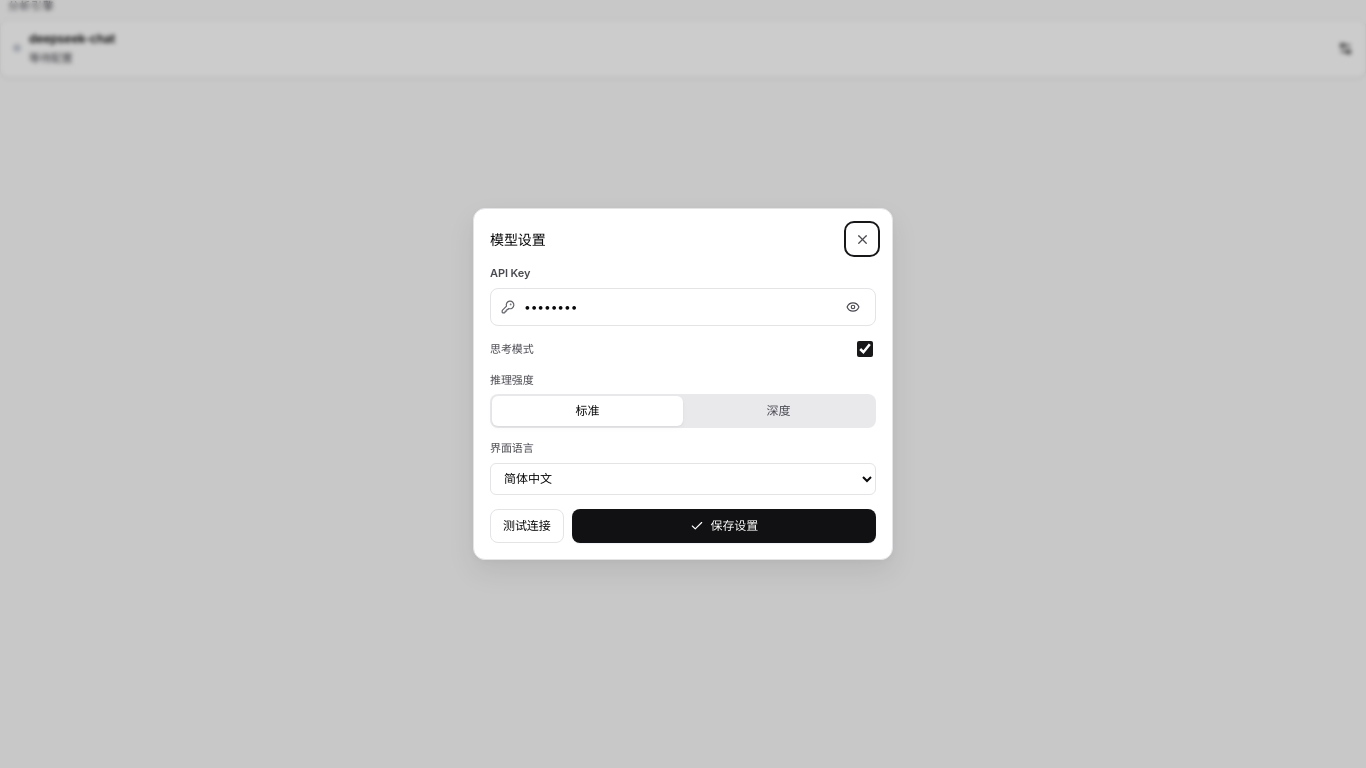
Scenario: SettingsPanel › 测试连接只发请求、不保存设置
Click the button "测试连接".
click(527, 526)  # box [490, 509, 564, 543]
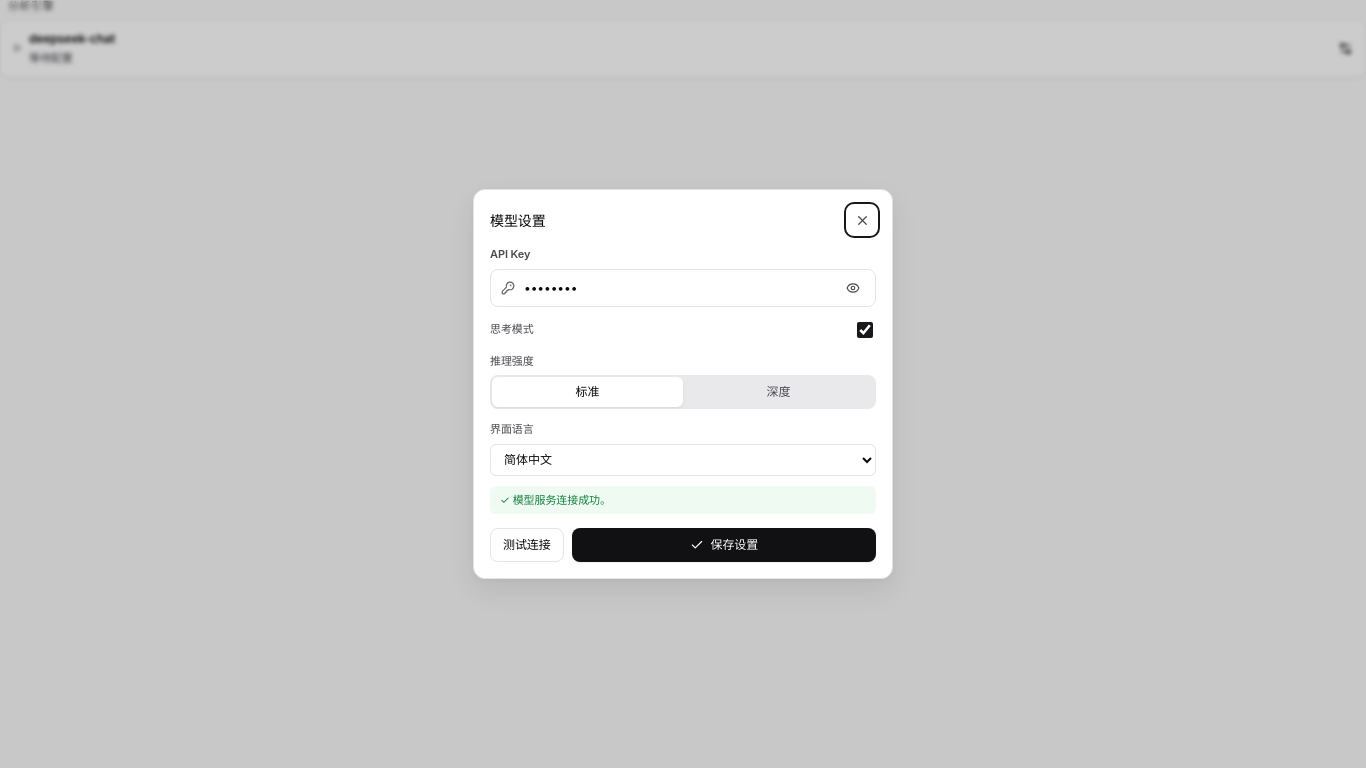
Now the message shows "模型服务连接成功", box [513, 492, 611, 506]
